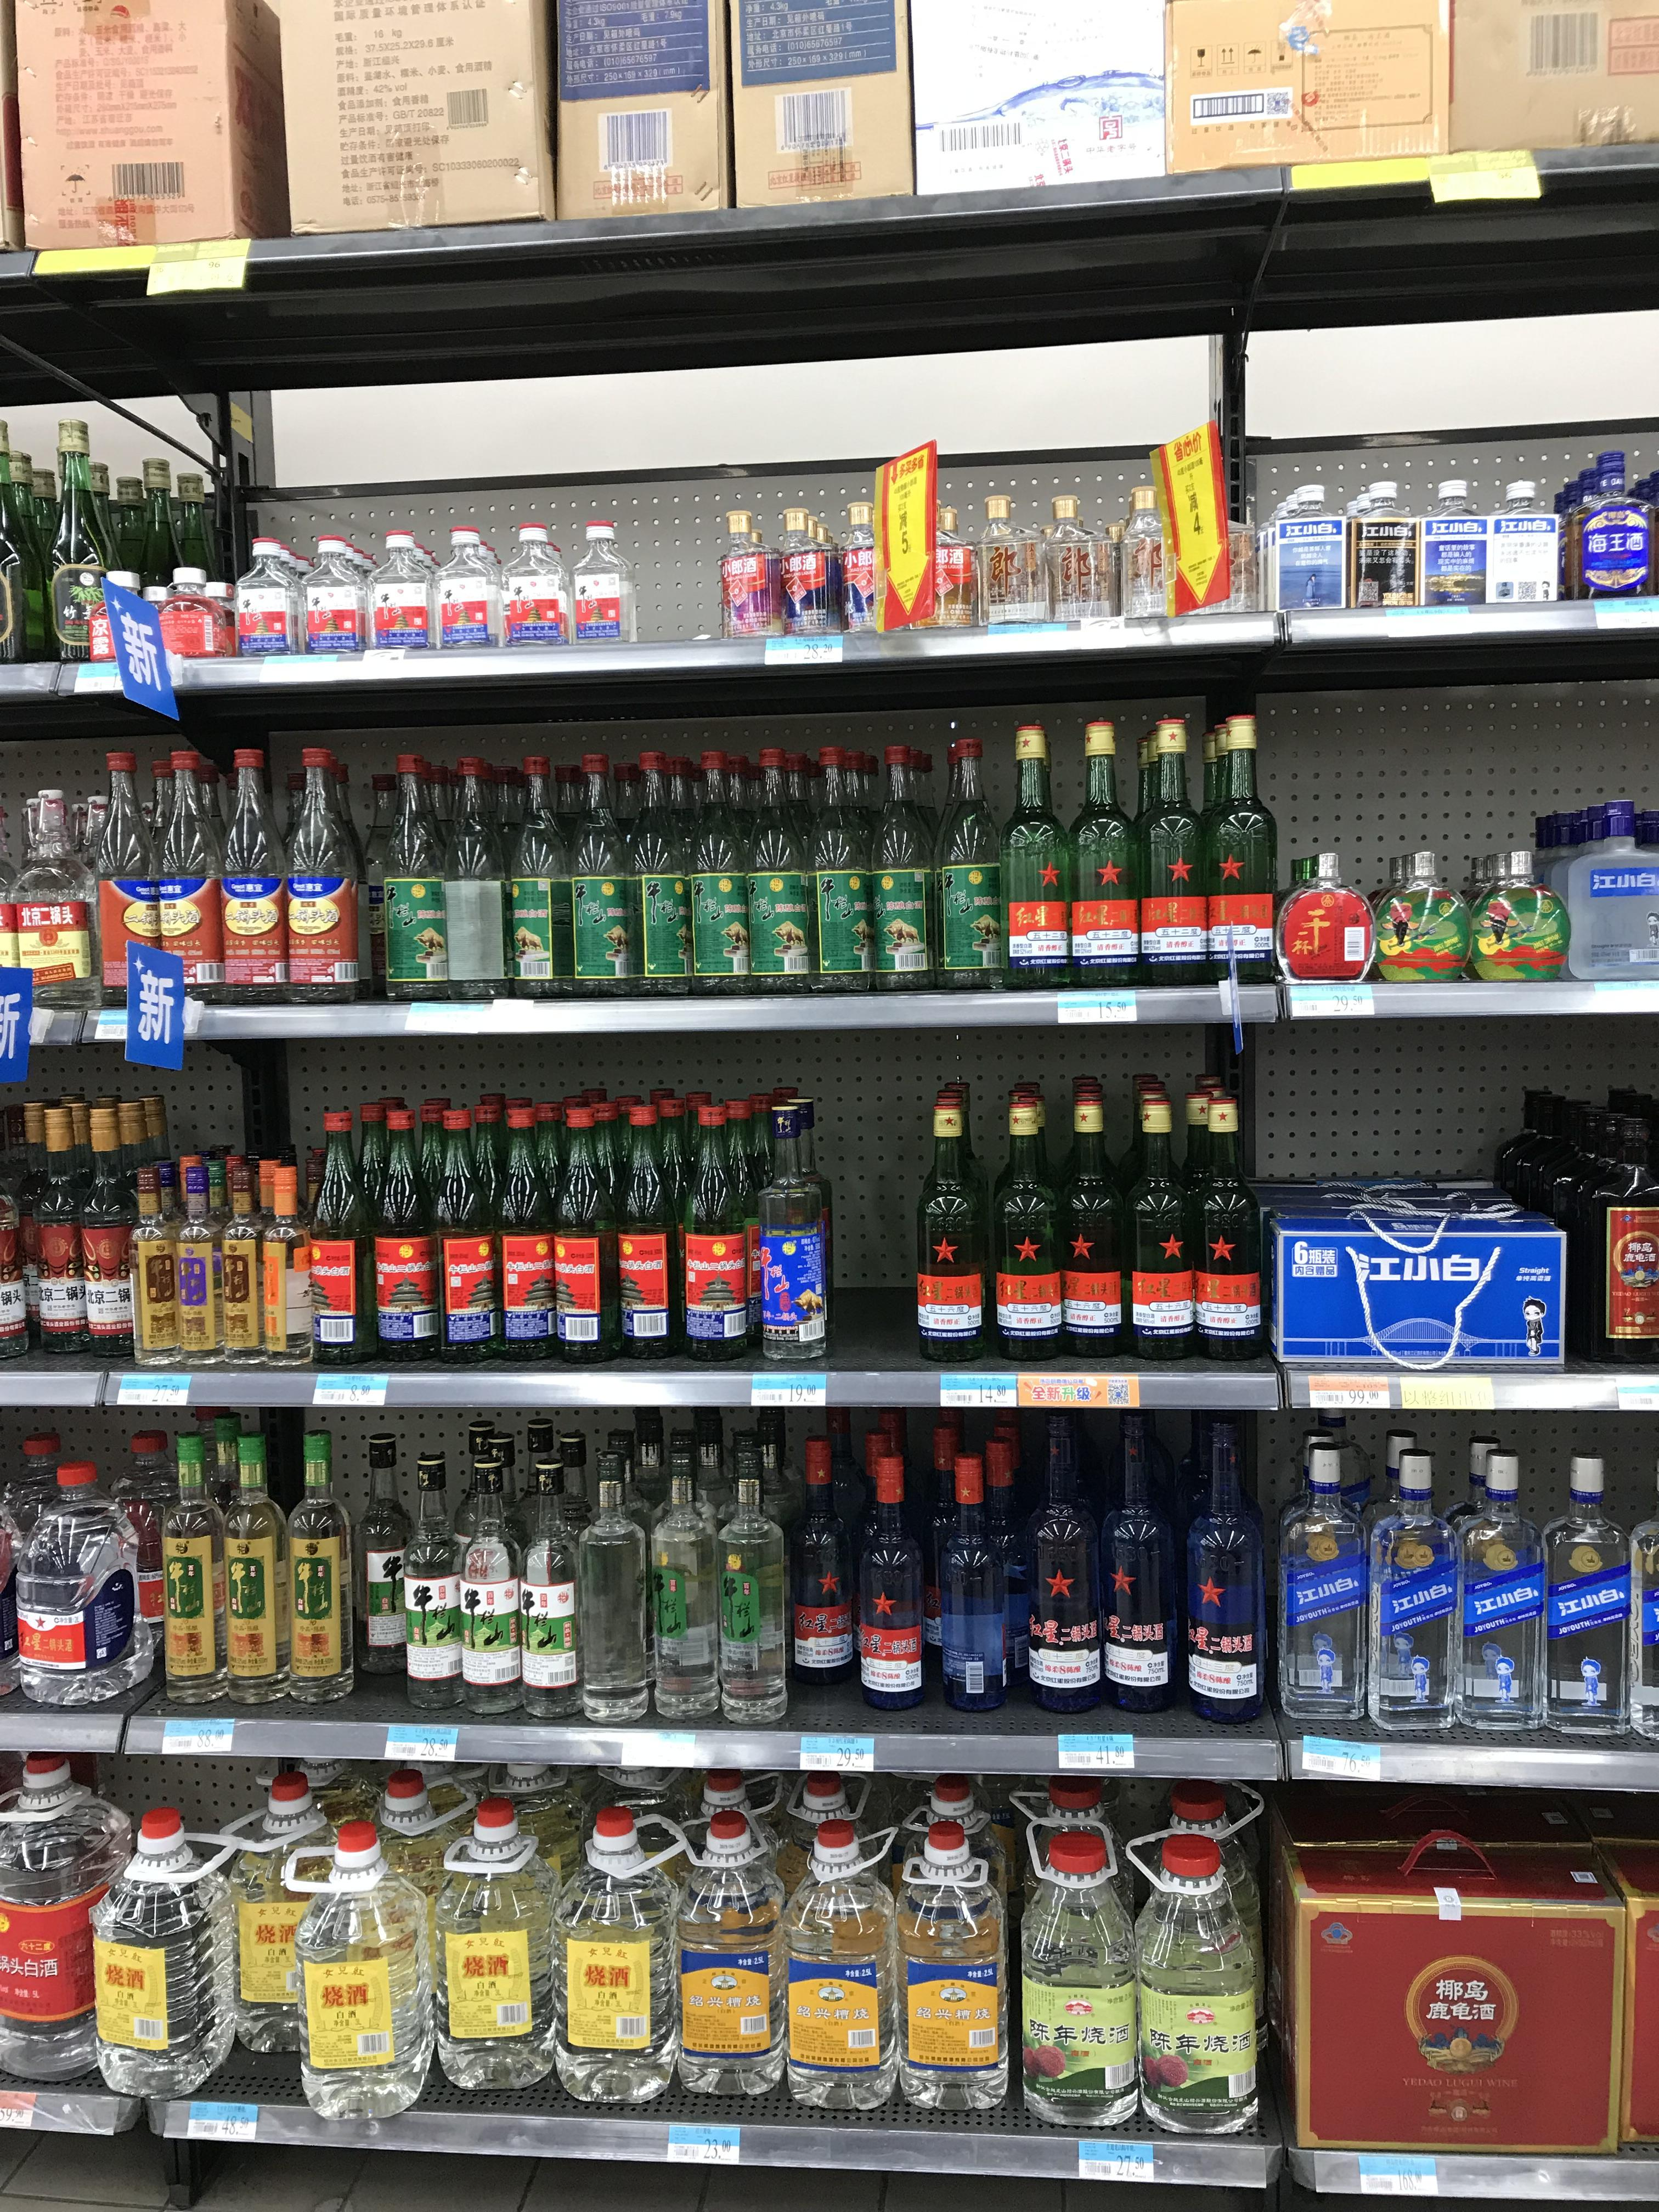bag: (1150, 444, 1251, 611), (1283, 864, 1370, 979)
bottle: (0, 1742, 124, 2081), (1134, 1836, 1262, 2148), (1018, 1825, 1138, 2137), (777, 1820, 896, 2127), (556, 1818, 674, 2111), (106, 1815, 230, 2085), (673, 1815, 782, 2118), (894, 1827, 1004, 2127), (24, 1460, 145, 1705), (1551, 1089, 1654, 1366), (1180, 1420, 1270, 1726), (1277, 1447, 1373, 1730), (1452, 1449, 1544, 1738), (1096, 1409, 1182, 1717), (1542, 1453, 1633, 1742), (1363, 1449, 1453, 1733), (568, 1437, 653, 1724), (1025, 1416, 1107, 1716), (714, 1432, 793, 1726), (277, 1425, 356, 1709), (279, 751, 366, 1003), (511, 1426, 586, 1719), (1133, 716, 1211, 991), (648, 1432, 721, 1726), (1201, 719, 1279, 991), (453, 1428, 526, 1717), (850, 1453, 932, 1710), (403, 1430, 477, 1710), (157, 1437, 234, 1709), (927, 735, 1007, 993), (913, 1092, 988, 1367), (753, 1097, 830, 1366), (213, 1435, 288, 1707), (997, 726, 1073, 991), (1190, 1090, 1263, 1367), (1066, 723, 1141, 991), (214, 752, 293, 1005), (1122, 1096, 1195, 1366), (678, 1097, 751, 1366), (349, 1428, 422, 1696), (990, 1097, 1063, 1366), (932, 1449, 1007, 1710), (150, 752, 230, 996), (784, 1439, 861, 1693), (434, 1104, 509, 1364), (549, 1103, 622, 1364), (500, 754, 579, 998), (434, 754, 512, 996), (1058, 1092, 1127, 1364), (610, 1101, 681, 1366), (561, 756, 640, 996), (24, 418, 103, 658), (376, 756, 453, 1001), (803, 745, 878, 996), (864, 744, 939, 995), (741, 745, 816, 996), (369, 1108, 441, 1366), (622, 752, 697, 996), (491, 1106, 563, 1360), (19, 792, 103, 1001), (91, 758, 164, 996), (683, 752, 755, 996), (310, 1111, 378, 1364), (113, 1440, 179, 1691), (31, 1109, 98, 1357), (878, 453, 967, 631), (78, 1111, 141, 1360), (127, 1143, 190, 1366), (113, 449, 174, 660), (1251, 486, 1344, 611), (146, 456, 204, 657), (174, 1157, 230, 1360), (220, 1163, 272, 1360), (1382, 864, 1467, 982), (260, 1174, 312, 1360), (1486, 477, 1561, 603), (1342, 482, 1417, 606), (1415, 477, 1486, 606), (1122, 462, 1175, 620), (993, 484, 1053, 624), (498, 531, 568, 644), (368, 540, 437, 651), (781, 503, 835, 644), (434, 533, 500, 648), (573, 519, 633, 641), (1046, 482, 1098, 620), (718, 500, 758, 639)
box: (918, 3, 1188, 211), (1169, 10, 1439, 167), (565, 10, 737, 254), (1443, 0, 1659, 155)
bucket: (436, 1808, 554, 2101), (300, 1838, 432, 2094), (247, 1831, 366, 2076), (1547, 805, 1657, 984), (1561, 449, 1649, 599)
jar: (1474, 855, 1561, 979), (228, 543, 305, 657), (301, 543, 364, 657), (159, 573, 220, 662)
others: (1276, 1796, 1629, 2174), (5, 3, 293, 261), (282, 2, 570, 232), (1297, 1130, 1568, 1364), (723, 0, 913, 218)
